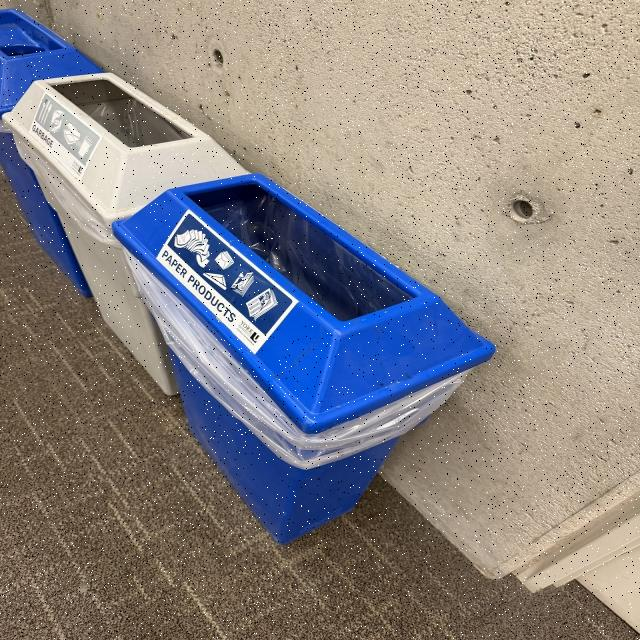Dustbin: (0, 9, 496, 542)
